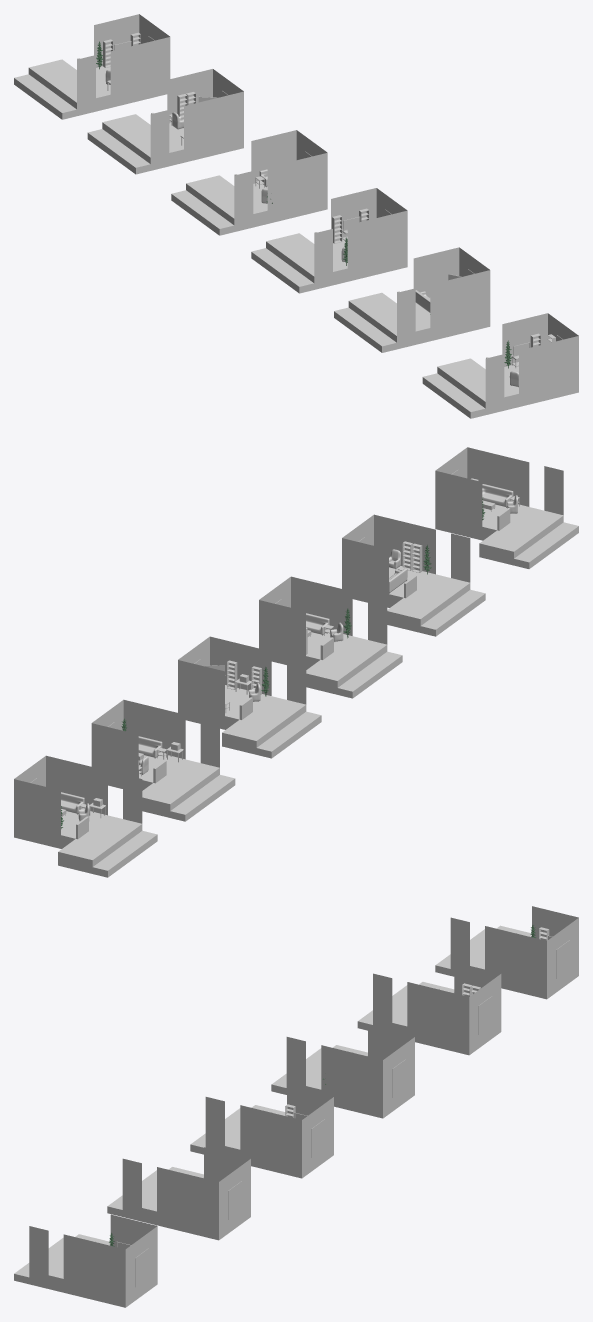
File: TyrasPlace.fbx
3 renders of one model, top to bottom at view 1: azimuth 30°, elevation 25°; view 2: azimuth 150°, elevation 25°; view 3: azimuth 330°, elevation 25°, orthographic. The views are drawn at different scales.
Visible parts, largest first — view 1: Plane.003, Plane.004, Plane.001, Plane.007, Plane.005, Plane, Cube.025, Cube.056, Cube.033, Cube.009, Cube.006, Cube.041 (+18 smaller); view 2: Plane, Plane.001, Plane.003, Plane.007, Plane.004, Plane.005, Cube.006, Cube.041, Cube.009, Cube.033, Cube.003, Cube.054 (+18 smaller); view 3: Cube.041, Cube.006, Cube.033, Cube.025, Cube.056, Cube.009, Plane.001, Plane.007, Cube.007, Cube.055, Cube.040, Cube.032 (+24 smaller).
Part boxes in pixels (x1,y1,x2,y2): Plane.003: (171, 175, 267, 235); Plane.004: (251, 233, 347, 293); Plane.001: (422, 358, 518, 418); Plane.007: (334, 292, 430, 352); Plane.005: (87, 114, 183, 174); Plane: (14, 59, 110, 119); Cube.025: (267, 153, 327, 210); Cube.056: (430, 270, 490, 327); Cube.033: (347, 210, 407, 268); Cube.009: (110, 37, 170, 94); Cube.006: (519, 336, 578, 393); Cube.041: (184, 91, 243, 149); Plane: (58, 815, 157, 877); Plane.001: (479, 507, 578, 568); Plane.003: (222, 696, 321, 758); Plane.007: (387, 574, 485, 636); Plane.004: (306, 636, 402, 698); Plane.005: (142, 759, 235, 821); Cube.006: (467, 447, 529, 506); Cube.041: (123, 700, 185, 759); Cube.009: (46, 755, 107, 815); Cube.033: (291, 576, 352, 635); Cube.003: (435, 470, 482, 526); Cube.054: (91, 723, 138, 777); Cube.041: (407, 982, 469, 1041); Cube.006: (63, 1234, 125, 1293); Cube.033: (240, 1105, 301, 1164); Cube.025: (321, 1045, 382, 1104); Cube.056: (157, 1167, 218, 1226); Cube.009: (485, 926, 546, 985); Plane.001: (14, 1234, 110, 1292); Plane.007: (107, 1167, 203, 1225); Cube.007: (63, 1271, 157, 1307); Cube.055: (157, 1203, 250, 1240); Cube.040: (407, 1018, 501, 1055); Cube.032: (240, 1141, 333, 1178).
Size of the model in its own units: 7407 by 3636 by 53131.
